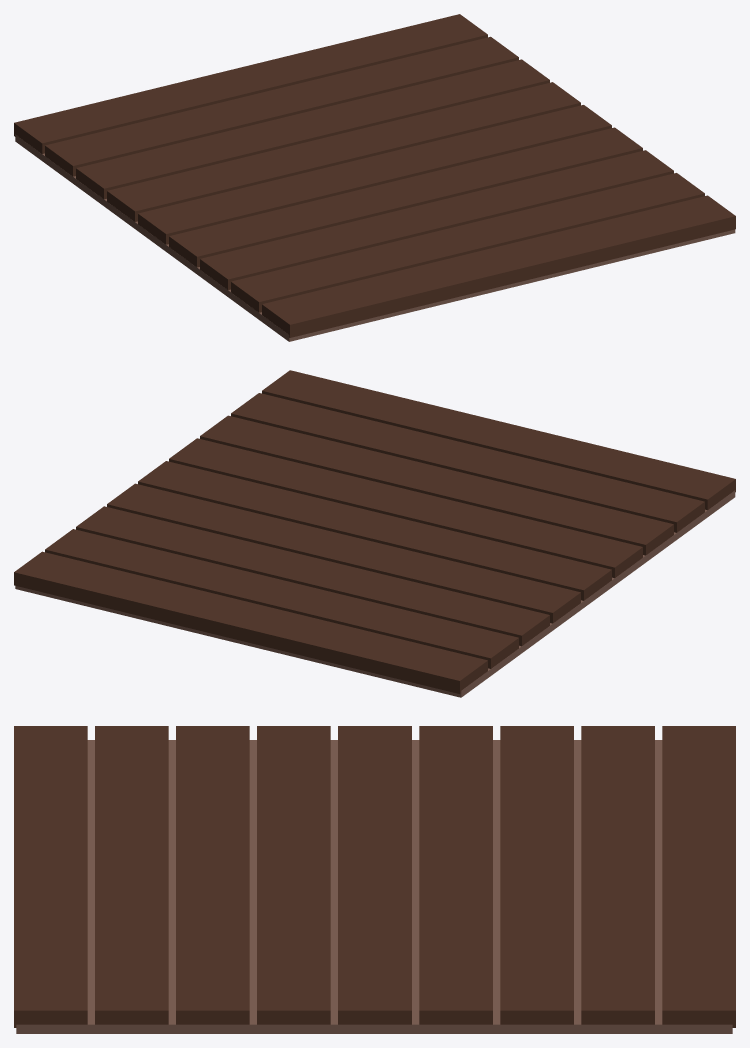
The model's file is floorboard.fbx.
3 renders of one model, top to bottom at view 1: azimuth 30°, elevation 25°; view 2: azimuth 150°, elevation 25°; view 3: azimuth 270°, elevation 25°, orthographic. The views are drawn at different scales.
Visible parts, largest first — view 1: floor; view 2: floor; view 3: floor.
Boxes of the visible parts, x1,y1,x2,y2 form: floor: (14, 14, 735, 341); floor: (14, 370, 735, 697); floor: (14, 726, 735, 1033).
Size of the model in its own units: 494 by 18.69 by 529.
